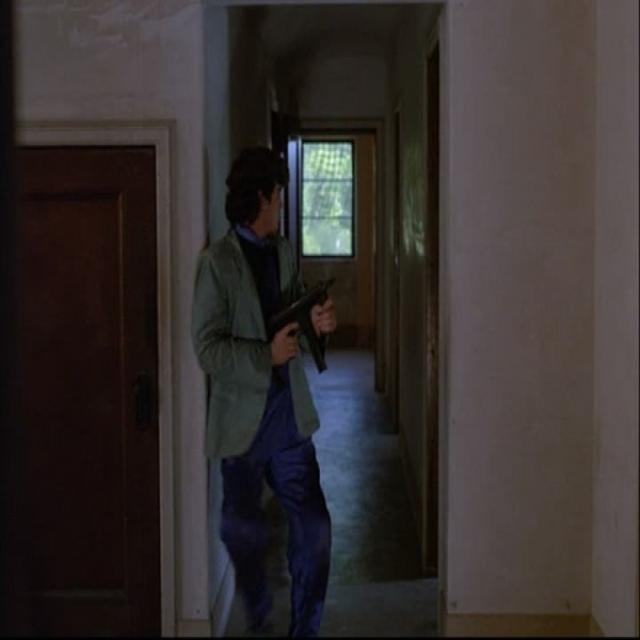rifle: (269, 266, 342, 387)
